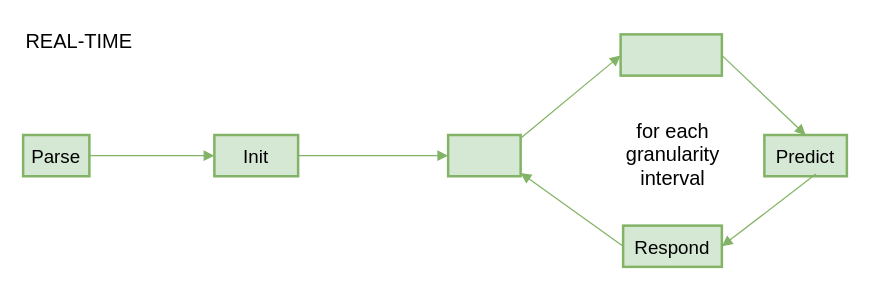
This 869x289 diagram has some shape labels left out. The centre of each missing label's shape, as x and y in pixels:
Ingest: the point at 483,155
Transform: the point at 670,54
